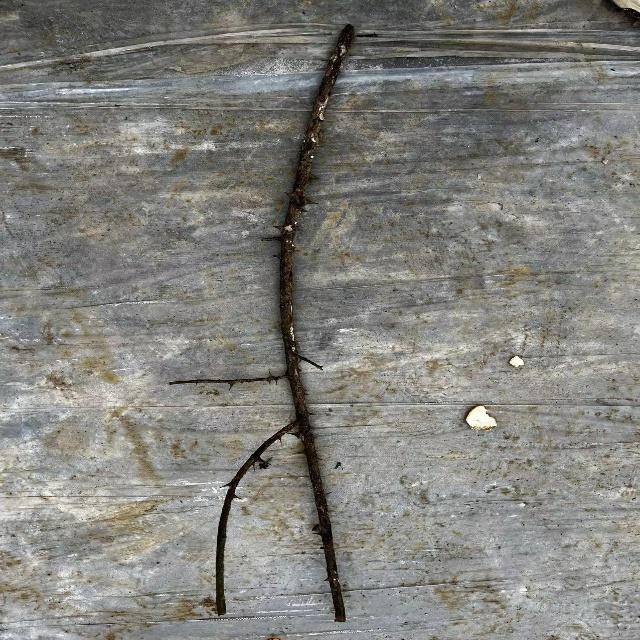branch: (277, 23, 354, 625), (212, 420, 302, 618)
